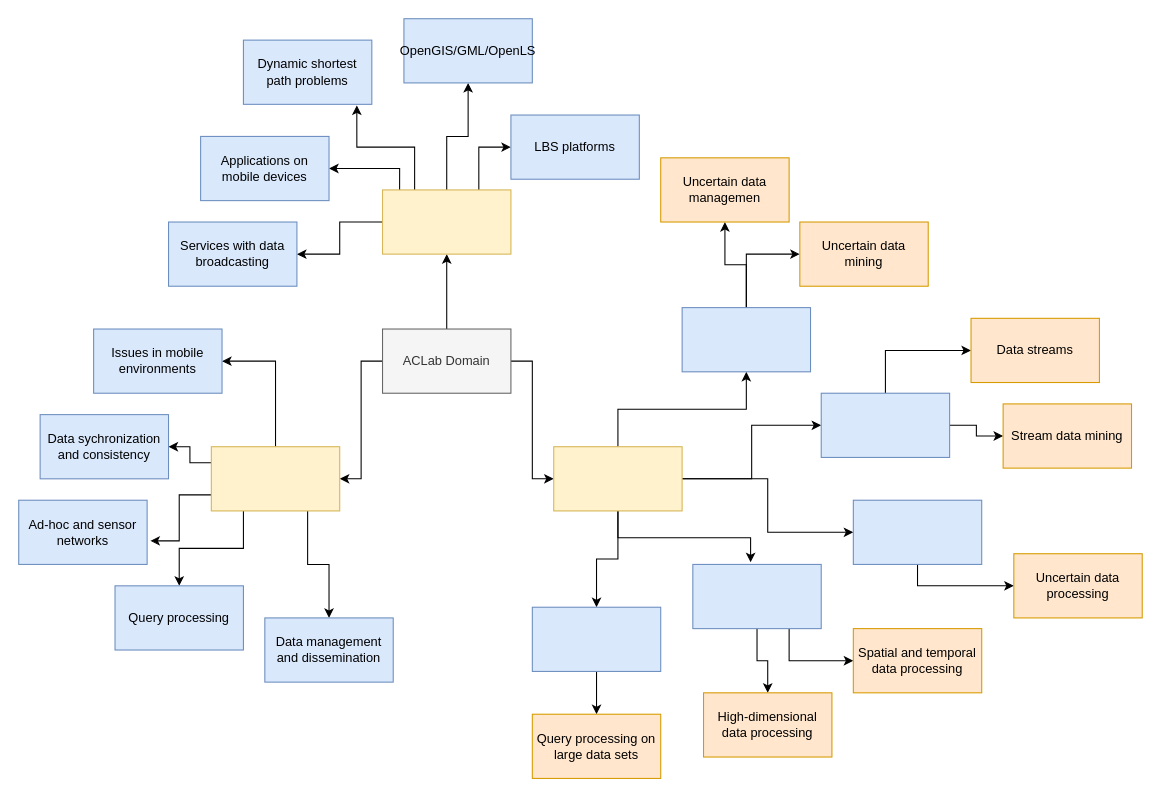
Image size: 1161x797. Some labels were removed from this diagram. The centre of each missing label's shape, as x and y in pixels:
Big data management: (617,478)
Data value: (917,531)
Data variety: (756,596)
Data velocity: (885,424)
Data veracity: (746,339)
Data volume: (596,638)
Location-based services: (446,221)
Mobile computing: (275,478)
